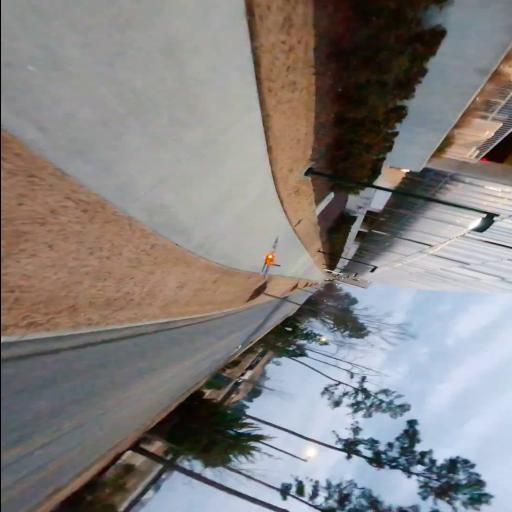uav: (254, 234, 288, 280)
